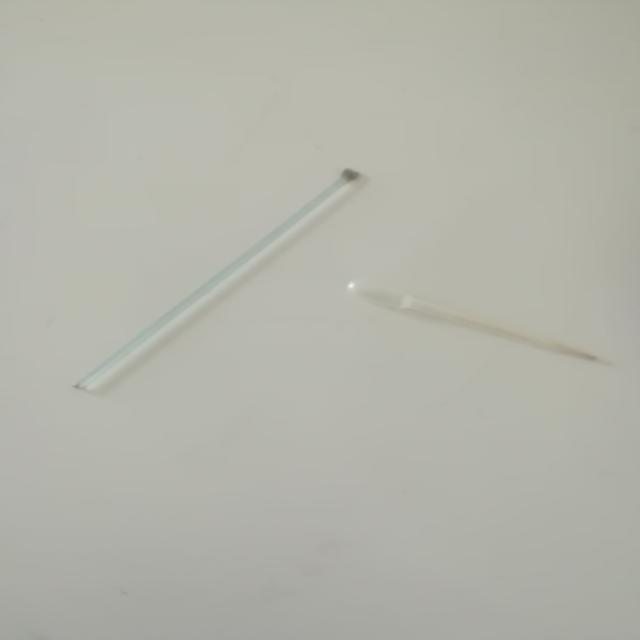Glass_Rod: (65, 146, 368, 410)
Pipette: (334, 268, 614, 390)
